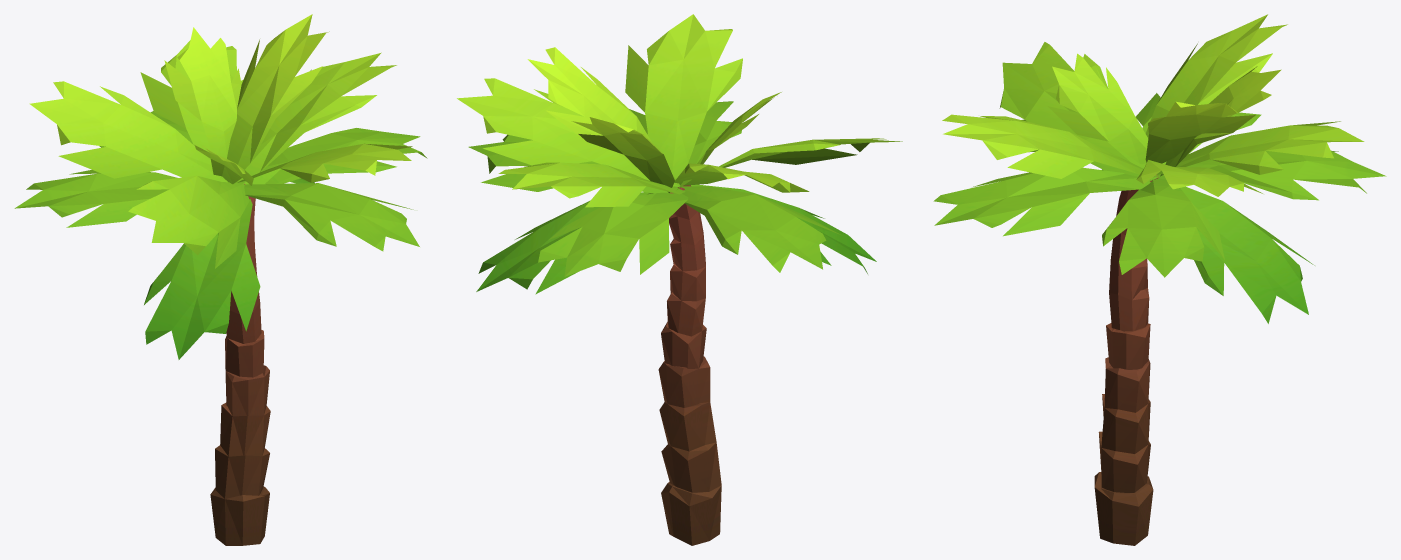
3 views of the same model, side by side, from view 1: azimuth 30°, elevation 25°; view 2: azimuth 150°, elevation 25°; view 3: azimuth 270°, elevation 25° (orthographic). The views are drawn at different scales.
Parts seen in each view (by area): view 1: Palmtree1_low; view 2: Palmtree1_low; view 3: Palmtree1_low.
Part boxes in pixels (x1,y1,x2,y2): Palmtree1_low: (14, 14, 427, 545); Palmtree1_low: (457, 14, 902, 545); Palmtree1_low: (933, 14, 1386, 545).
Bounding box in the file's own units: 7.69 × 9.09 × 7.57.
1 material, 1 textured.
